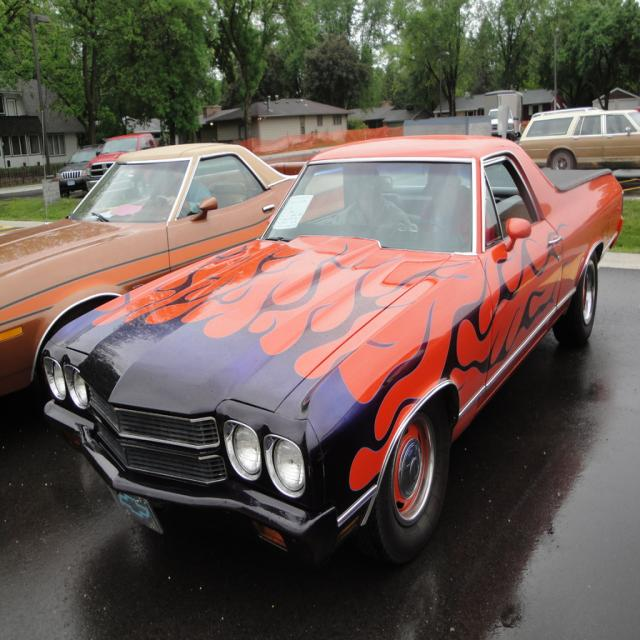car: (60, 129, 603, 568)
